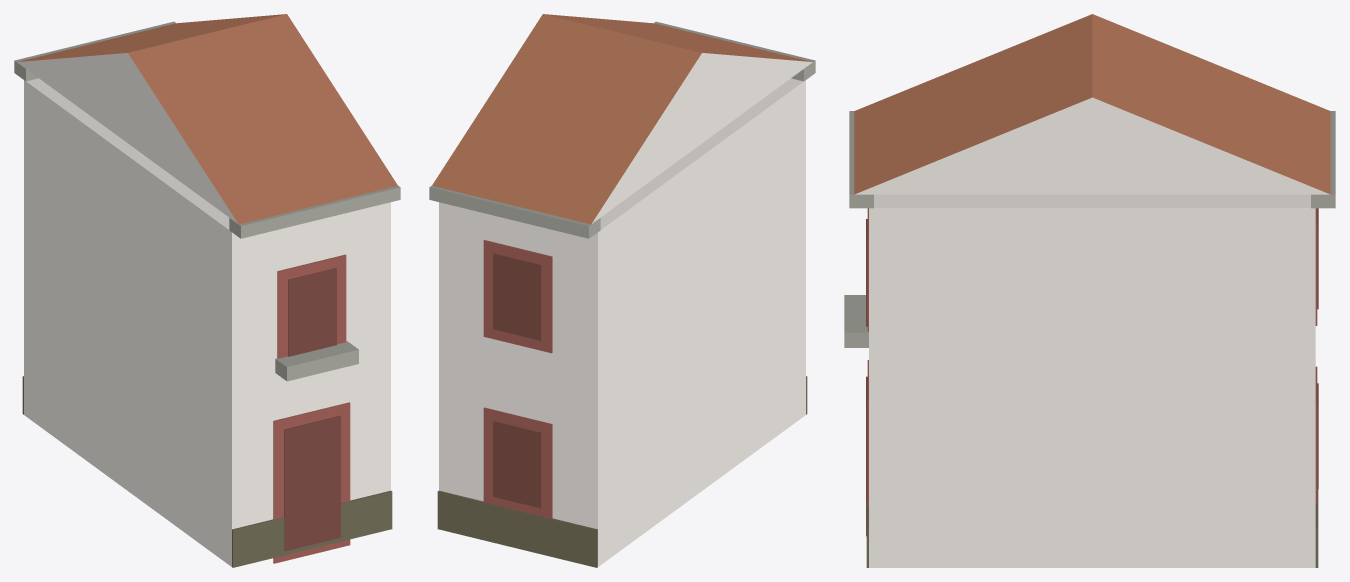
The model's file is SM_KitCuerpo_v0_LOD1.fbx.
3 views of the same model, side by side, from view 1: azimuth 30°, elevation 25°; view 2: azimuth 150°, elevation 25°; view 3: azimuth 270°, elevation 25° (orthographic). The views are drawn at different scales.
Parts seen in each view (by area): view 1: SM_bloques.kit_cuerpo_v0_LOD1; view 2: SM_bloques.kit_cuerpo_v0_LOD1; view 3: SM_bloques.kit_cuerpo_v0_LOD1.
Part boxes in pixels (x1,y1,x2,y2): SM_bloques.kit_cuerpo_v0_LOD1: (14,14,400,567); SM_bloques.kit_cuerpo_v0_LOD1: (429,14,815,567); SM_bloques.kit_cuerpo_v0_LOD1: (844,14,1335,567).
Bounding box in the file's own units: 3.99 × 10.61 × 9.9.
